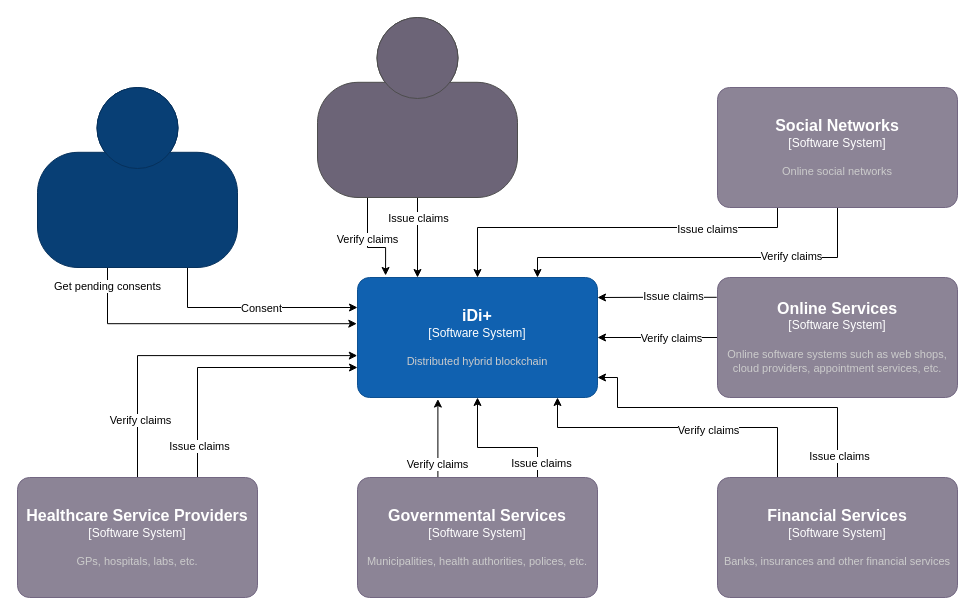
The diagram is 975 pixels wide and 615 high, and some of its shapes have lost their labels. Here are the shapes that lost their labels. From the top down, the centre of each, then its label:
point (417, 107): Any Individual [Person] Just anyone
point (137, 177): Id holder [Person] An individual holding an Id
